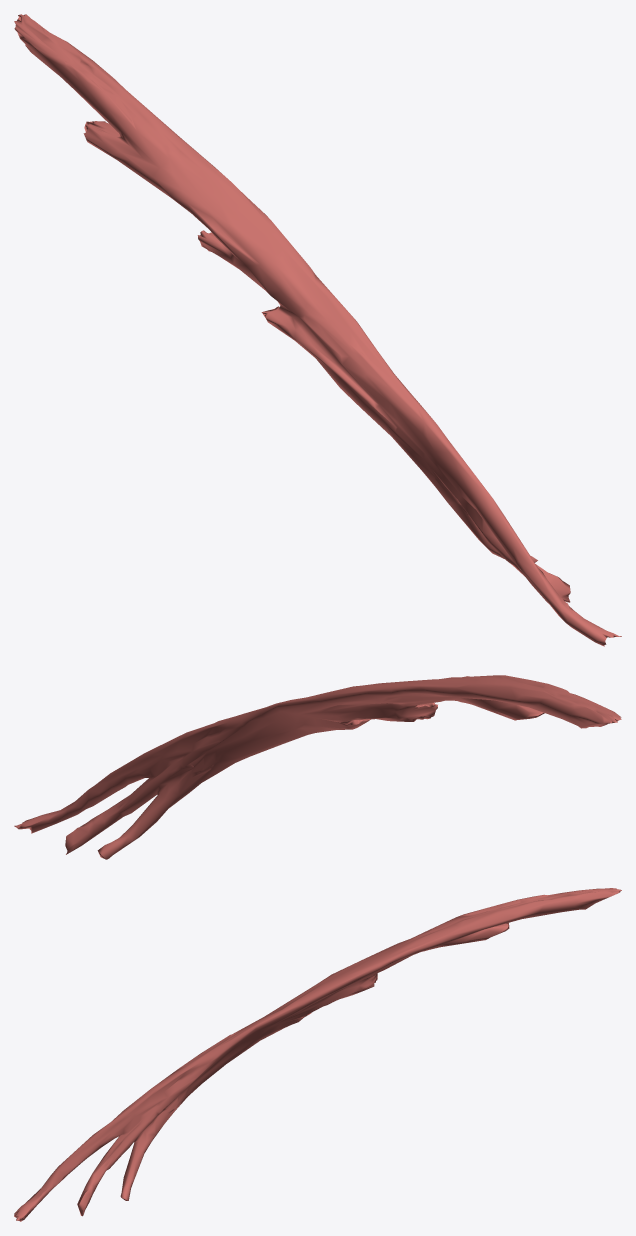
3 renders of one model, top to bottom at view 1: azimuth 30°, elevation 25°; view 2: azimuth 210°, elevation 25°; view 3: azimuth 270°, elevation 25°, orthographic. The views are drawn at different scales.
Parts seen in each view (by area): view 1: 右侧颈髂肋肌; view 2: 右侧颈髂肋肌; view 3: 右侧颈髂肋肌.
Boxes of the visible parts, box(x1,y1,x2,y2) form: 右侧颈髂肋肌: box(14, 14, 621, 646); 右侧颈髂肋肌: box(14, 675, 621, 859); 右侧颈髂肋肌: box(14, 888, 621, 1221).
Size of the model in its own units: 0.0743 by 0.1281 by 0.2599.
